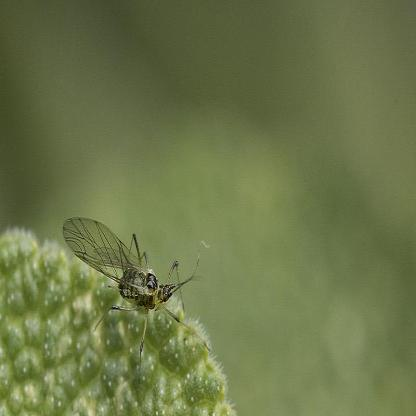aphid: (62, 204, 190, 374)
